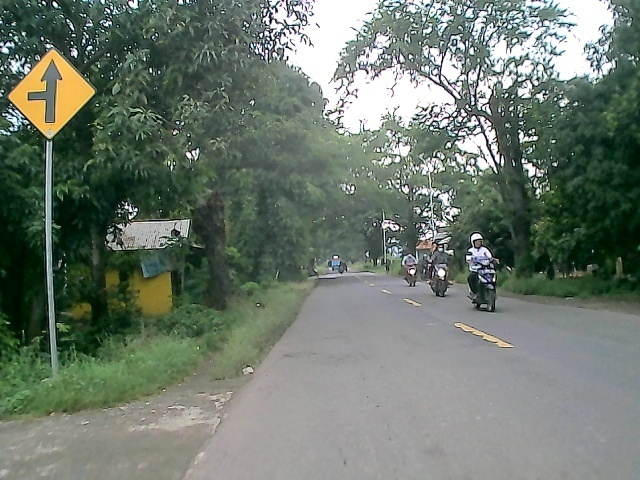Simpang kiri dengan prioritas: (3, 46, 101, 141)
